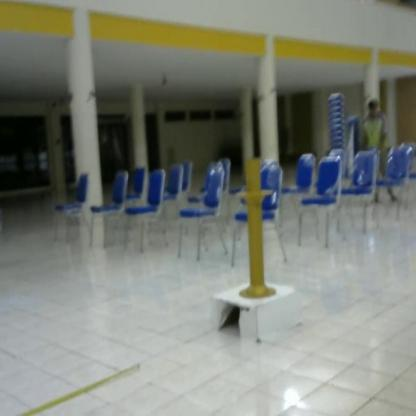pole: (235, 154, 280, 303)
